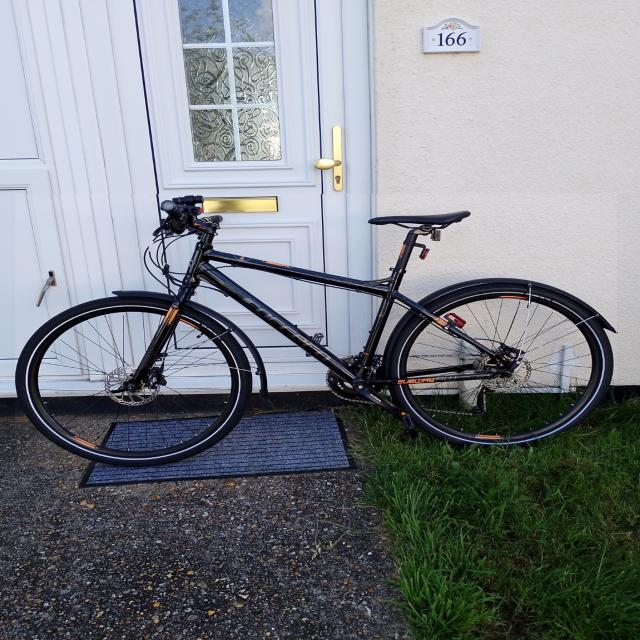bicycle: (15, 194, 618, 466)
